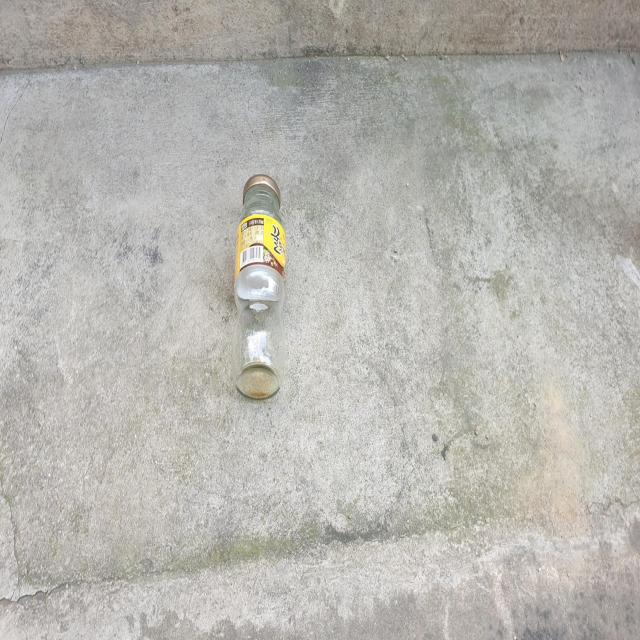glass: (233, 174, 286, 398)
